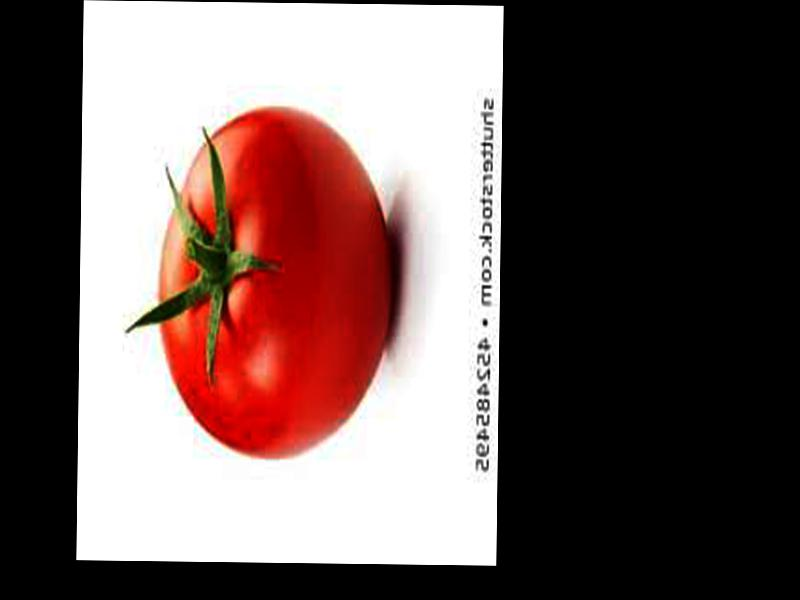Tomato: (157, 110, 396, 455)
